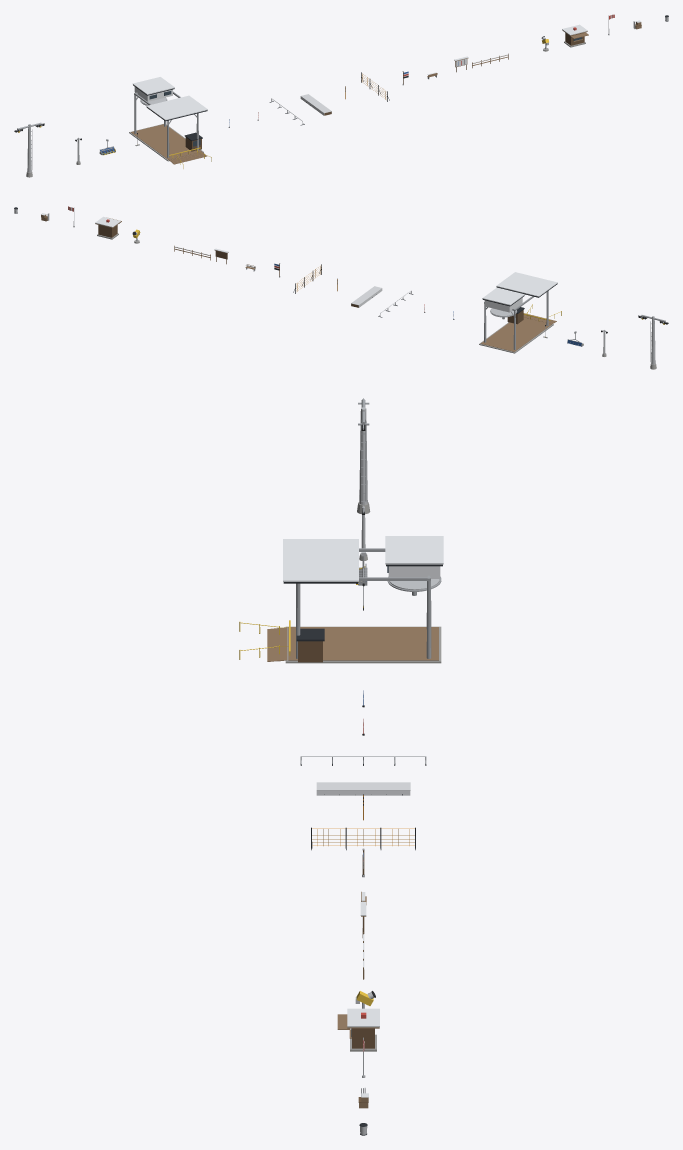
File: lifts.glb
The picture shows the model from 3 angles, top to bottom: view 1: azimuth 30°, elevation 25°; view 2: azimuth 150°, elevation 25°; view 3: azimuth 270°, elevation 25°; orthographic projection. The views are drawn at different scales.
Visible parts, largest first — view 1: lift_station, prop_ticket, lift_pylon, park_box; view 2: lift_station, prop_ticket, lift_pylon, park_box; view 3: lift_station, prop_ticket, park_box.
Boxes of the visible parts, x1,y1,x2,y2 form: lift_station: (129,77,211,168); prop_ticket: (562,24,588,47); lift_pylon: (14,122,44,177); park_box: (300,94,331,115); lift_station: (479,272,561,353); prop_ticket: (95,216,121,239); lift_pylon: (638,315,668,369); park_box: (351,286,382,307); lift_station: (239,536,443,663); prop_ticket: (337,1008,379,1051); park_box: (316,782,410,795).
Size of the model in its own units: 145 by 11.03 by 19.65.
